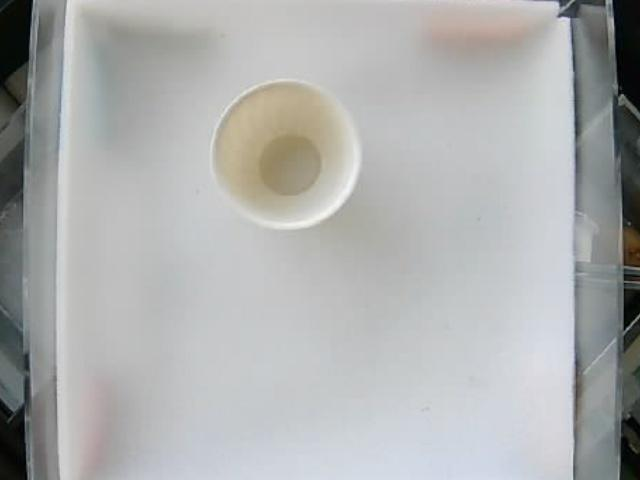Cup: (213, 79, 360, 227)
